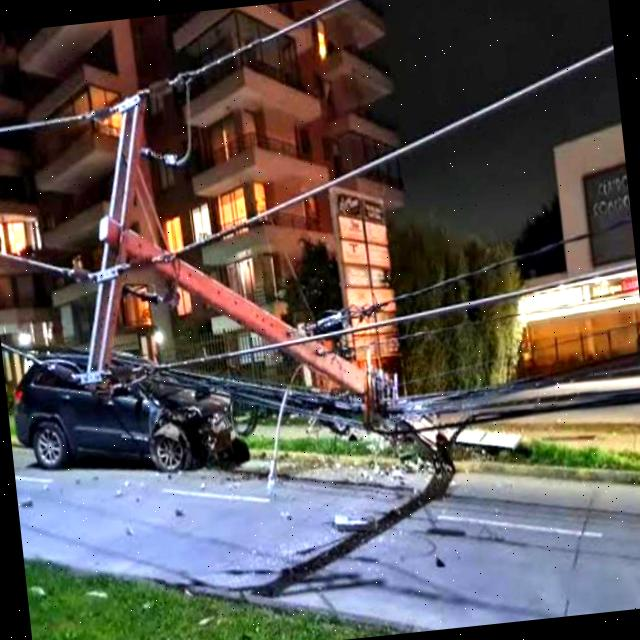Broken Pole: (0, 0, 640, 454)
